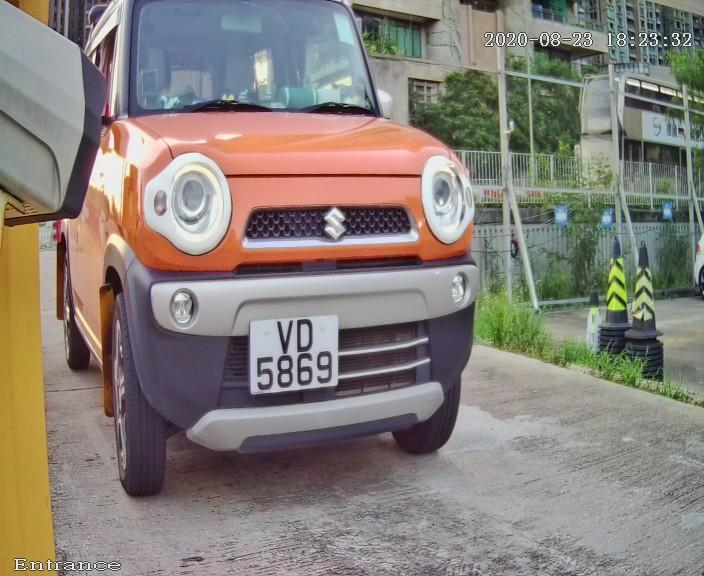Car: (32, 6, 535, 507)
License Plate: (227, 287, 370, 419)
